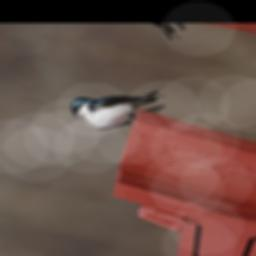Swallow: (65, 70, 167, 144)
